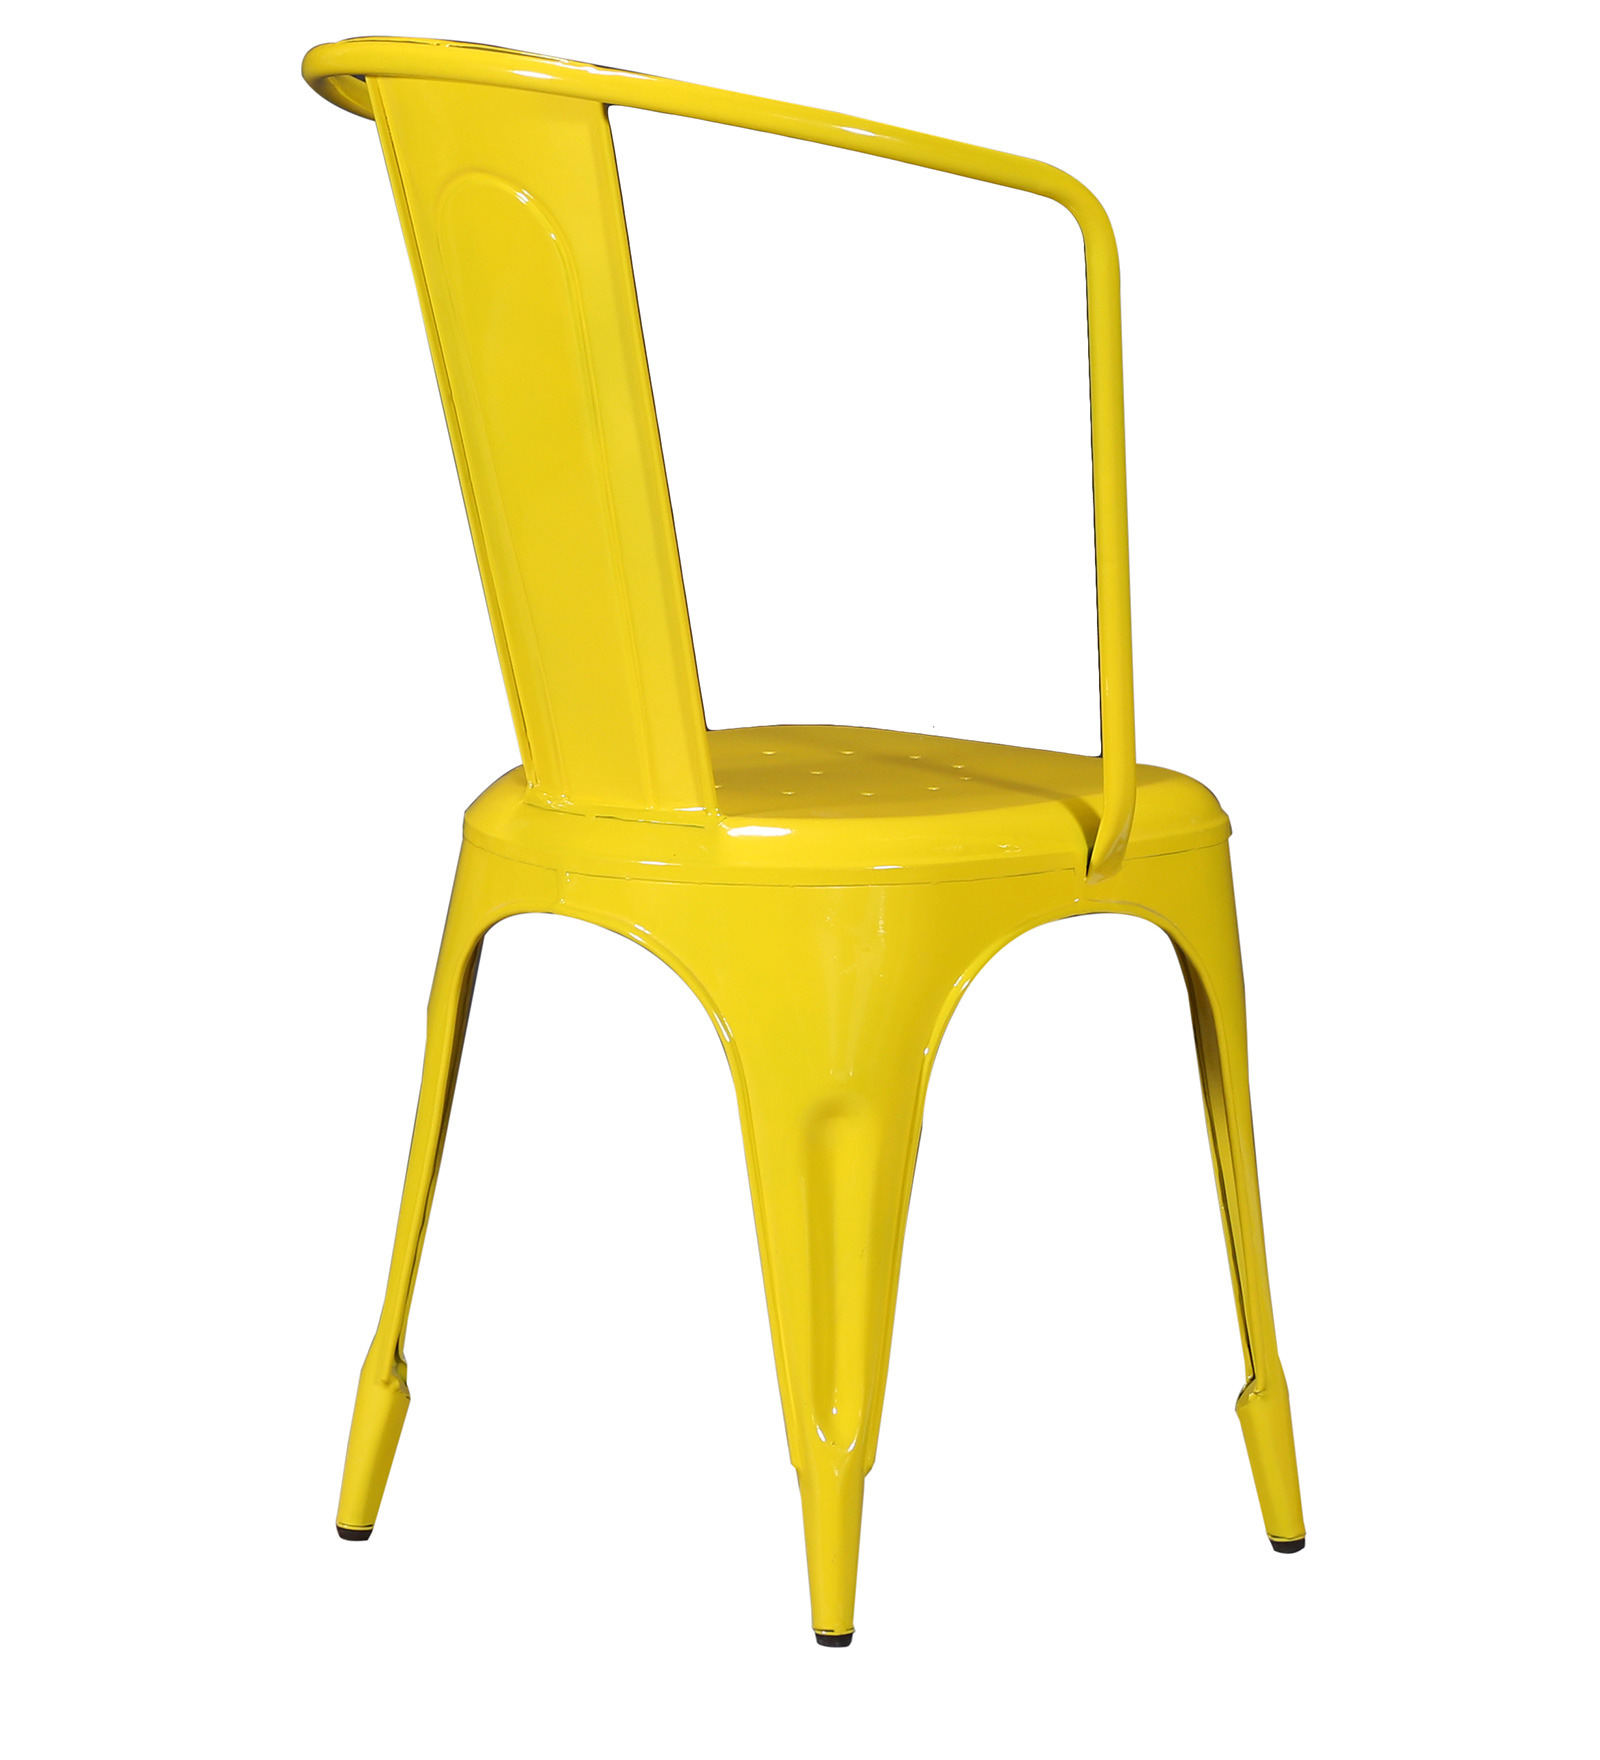Ekati Metal Chair in Yellow Color by Bohemiana: (270, 26, 1341, 1674)
